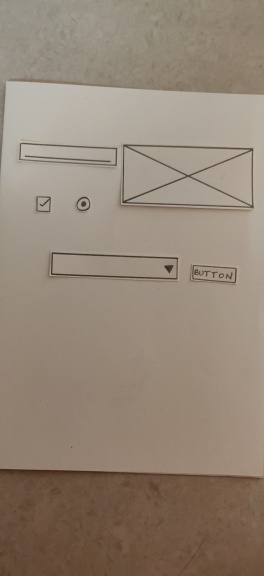button: (187, 260, 240, 285)
checkbox: (32, 192, 55, 218)
dropdown: (46, 247, 181, 287)
img: (122, 141, 258, 215)
radio: (72, 193, 95, 215)
text: (15, 138, 119, 169)
